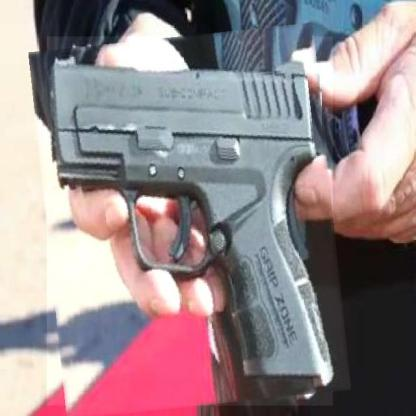handgun: (38, 30, 342, 412)
